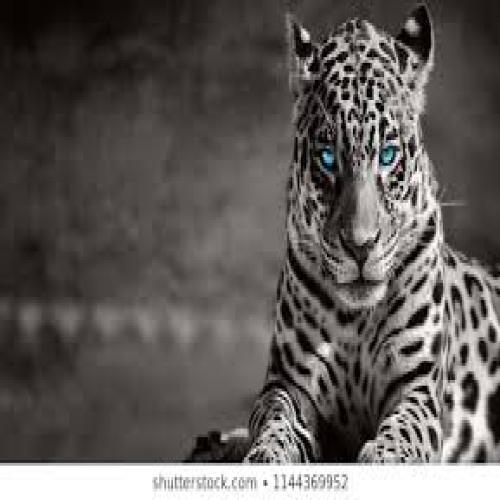jaguar_not-endangered: (282, 14, 500, 459)
